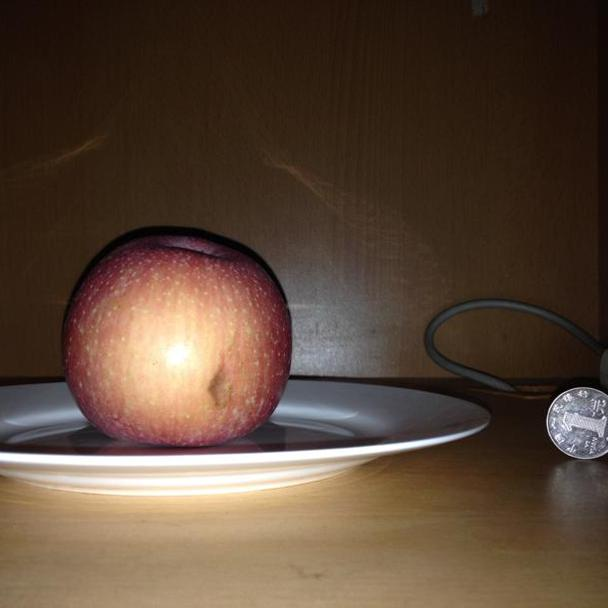apple: (59, 236, 294, 450)
